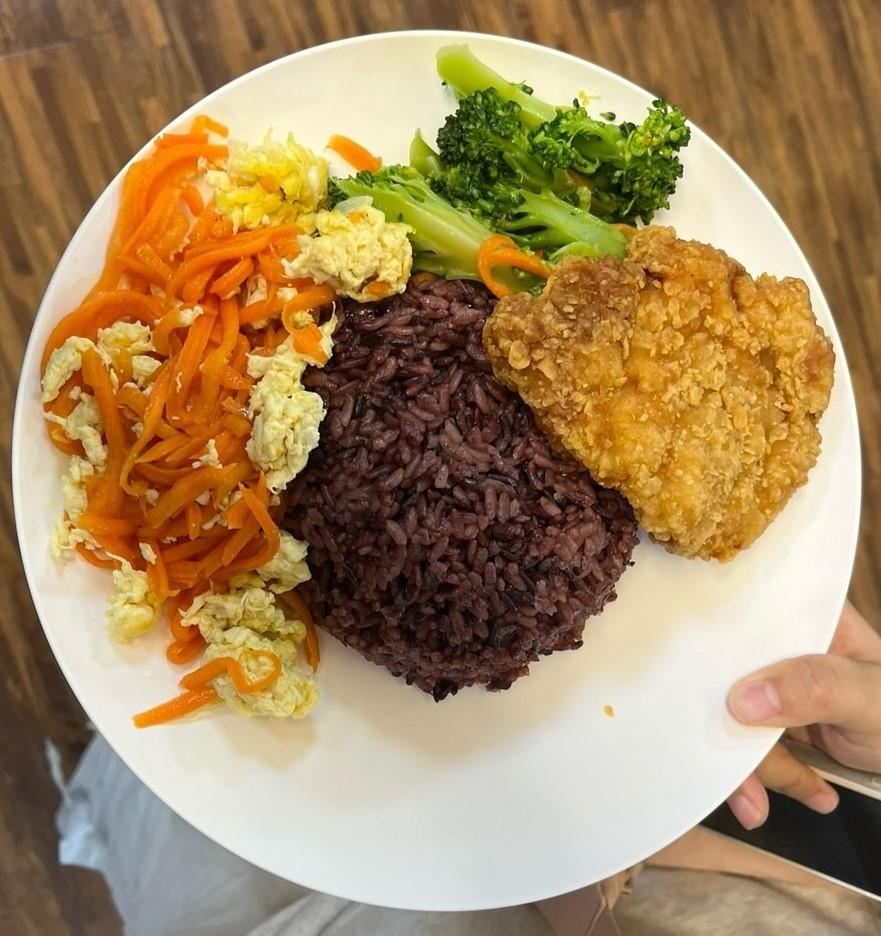big fried chicken leg: (16, 28, 881, 918)
braised fish: (290, 298, 638, 700)
braised fish fillet: (33, 116, 409, 748), (320, 42, 688, 291)
braised pork: (486, 214, 841, 560)
